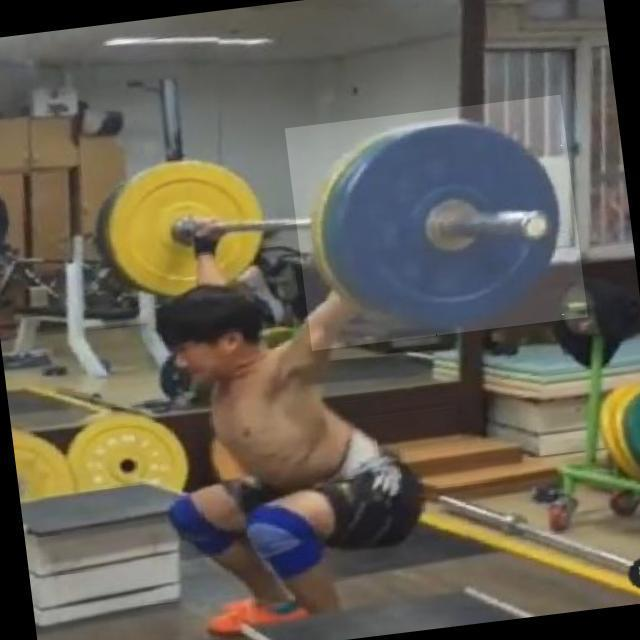barbell: (286, 95, 589, 351)
